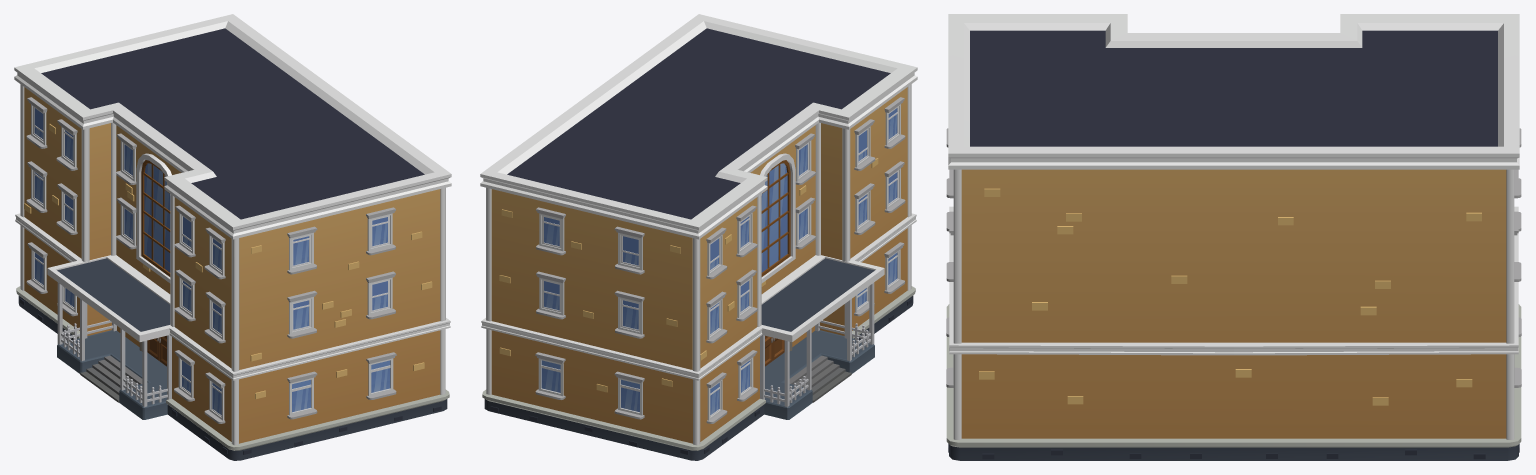
File: Building_5_2_M.fbx
The picture shows the model from 3 angles, left to right: view 1: azimuth 30°, elevation 25°; view 2: azimuth 150°, elevation 25°; view 3: azimuth 270°, elevation 25°; orthographic projection. The views are drawn at different scales.
Parts seen in each view (by area): view 1: Building_5_2_M; view 2: Building_5_2_M; view 3: Building_5_2_M.
Part boxes in pixels (left/top/right/bottom): Building_5_2_M: left=14, top=14, right=451, bottom=460; Building_5_2_M: left=480, top=14, right=917, bottom=460; Building_5_2_M: left=946, top=14, right=1521, bottom=460.
Bounding box in the file's own units: 1251 × 1126 × 1908.
